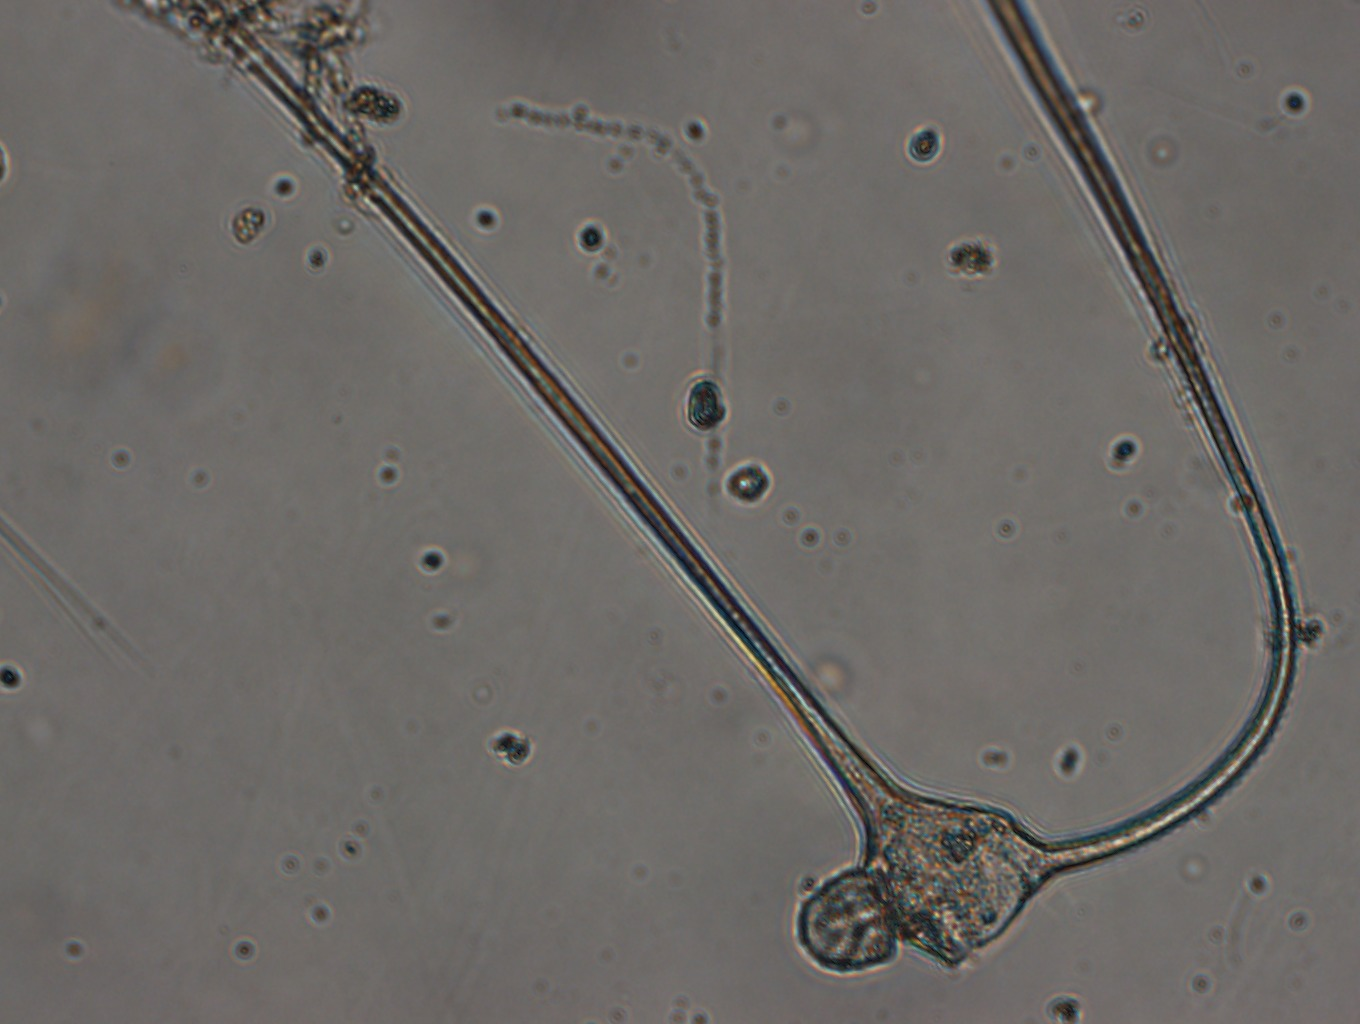ceratium trichoceros: (188, 5, 1306, 990)
